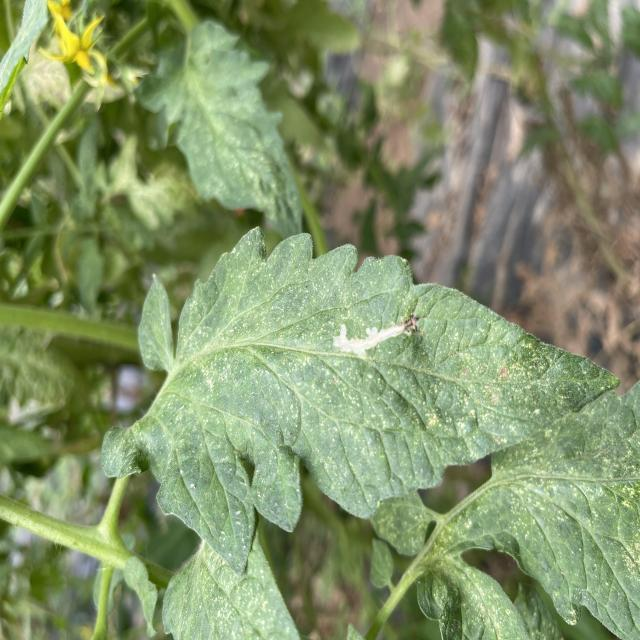Tuta absoluta: (331, 313, 423, 360)
